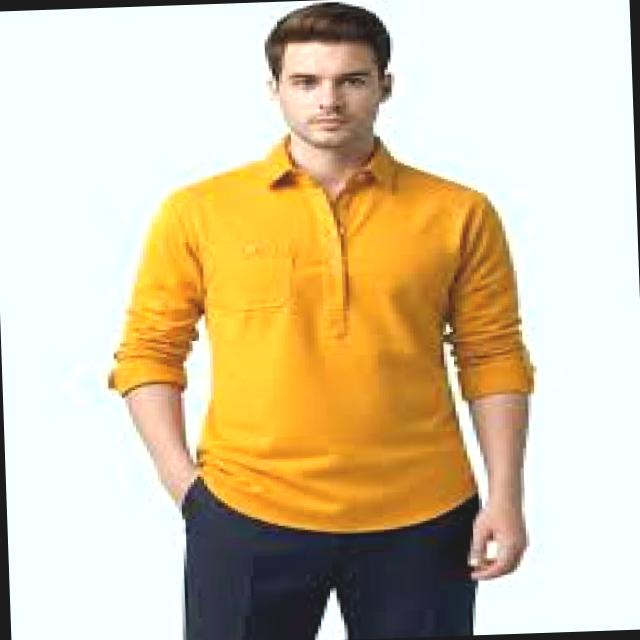face: (269, 42, 391, 148)
lower-wear: (181, 475, 481, 639)
top-wear: (107, 133, 535, 532)
